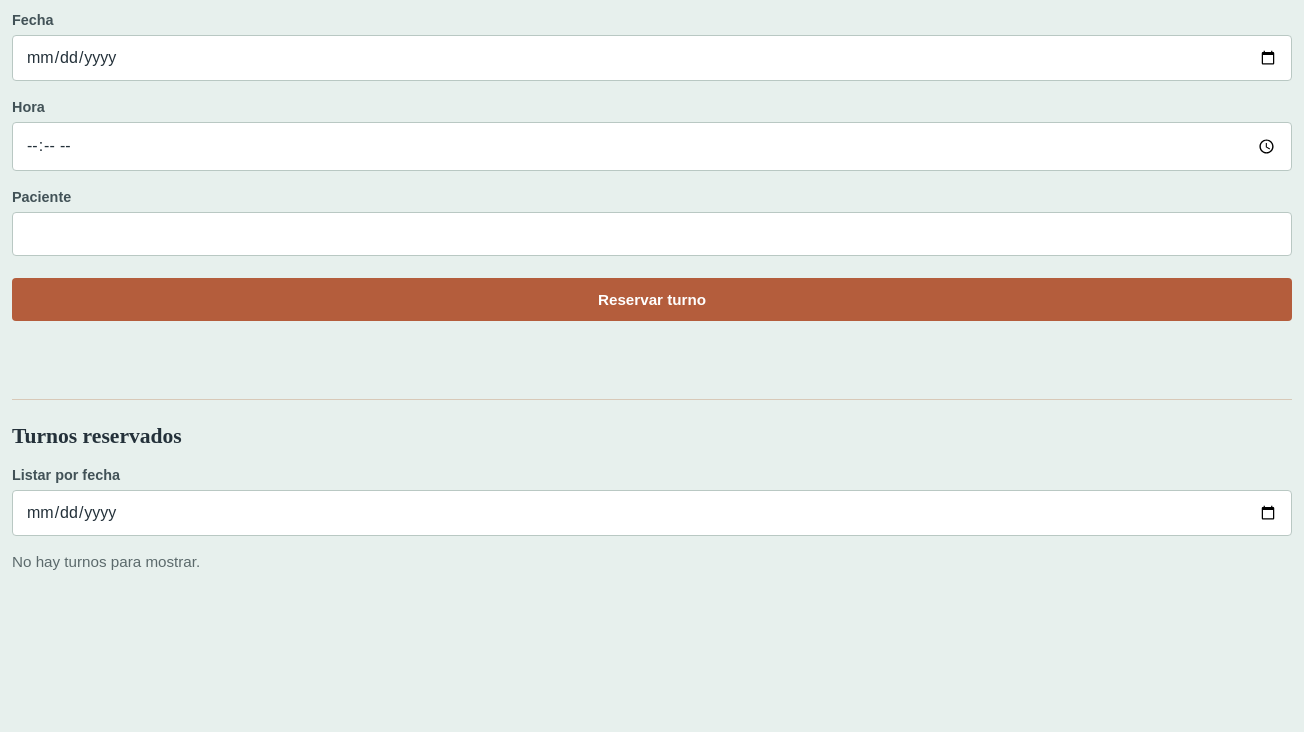
FormularioTurno › reserva un turno correctamente
The width and height of the screenshot is (1304, 732).
Type "2026-09-01" into the date field labelled "Fecha" at (652, 58), box left=12, top=35, right=1292, bottom=81
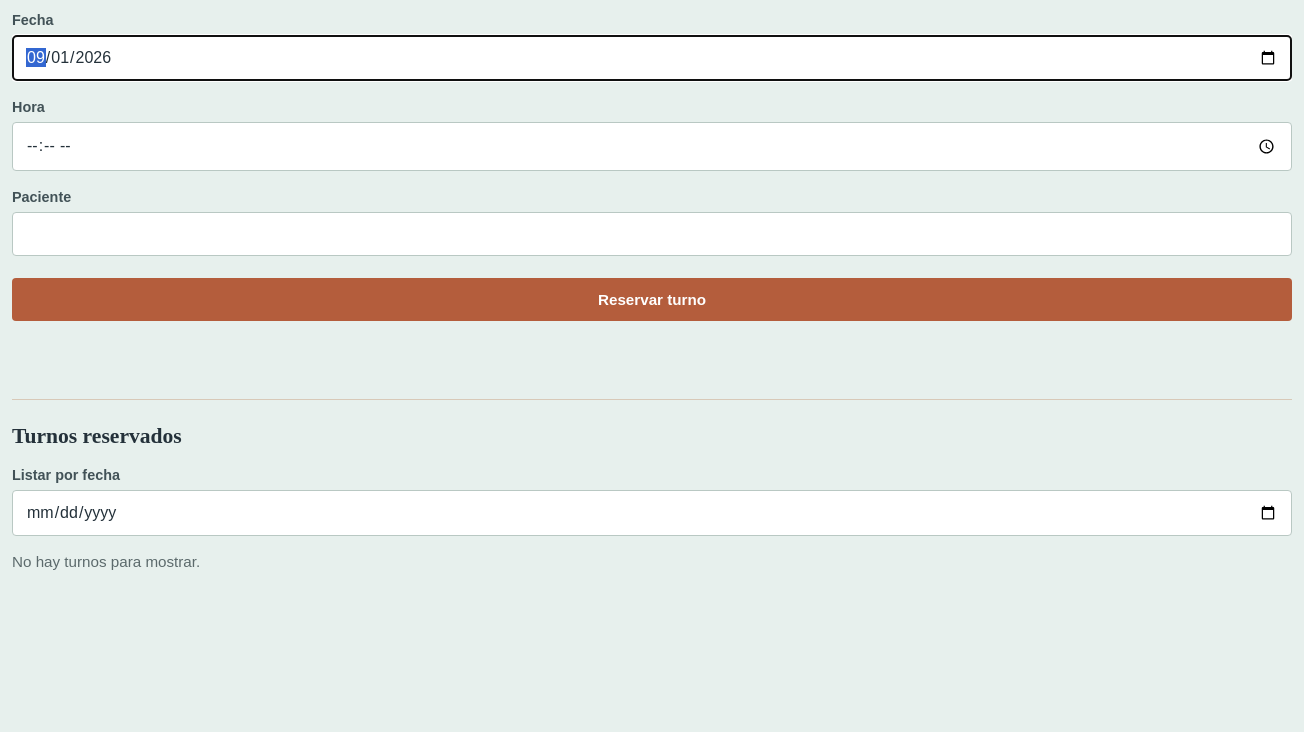
Type "10:30" into the time field labelled "Hora" at (652, 146), box left=12, top=122, right=1292, bottom=171
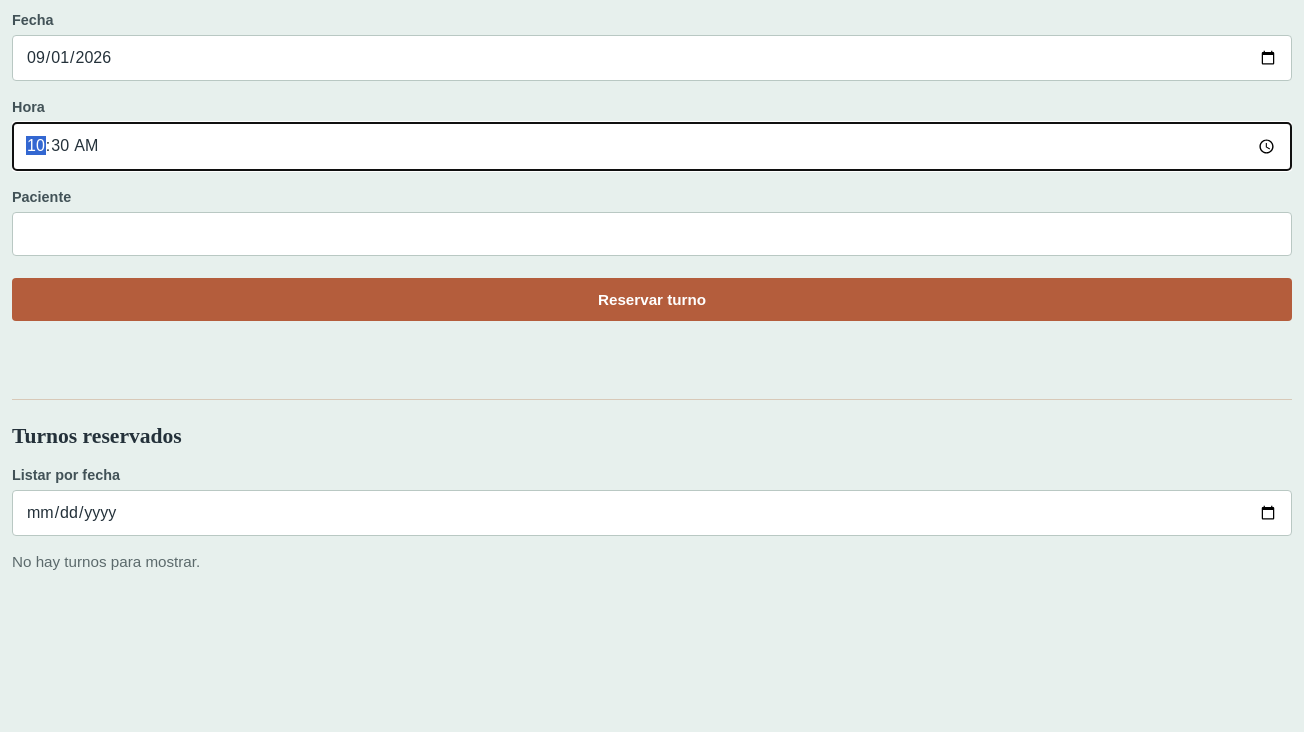
Type "Ana" into the field labelled "Paciente" at (652, 234), box left=12, top=212, right=1292, bottom=256
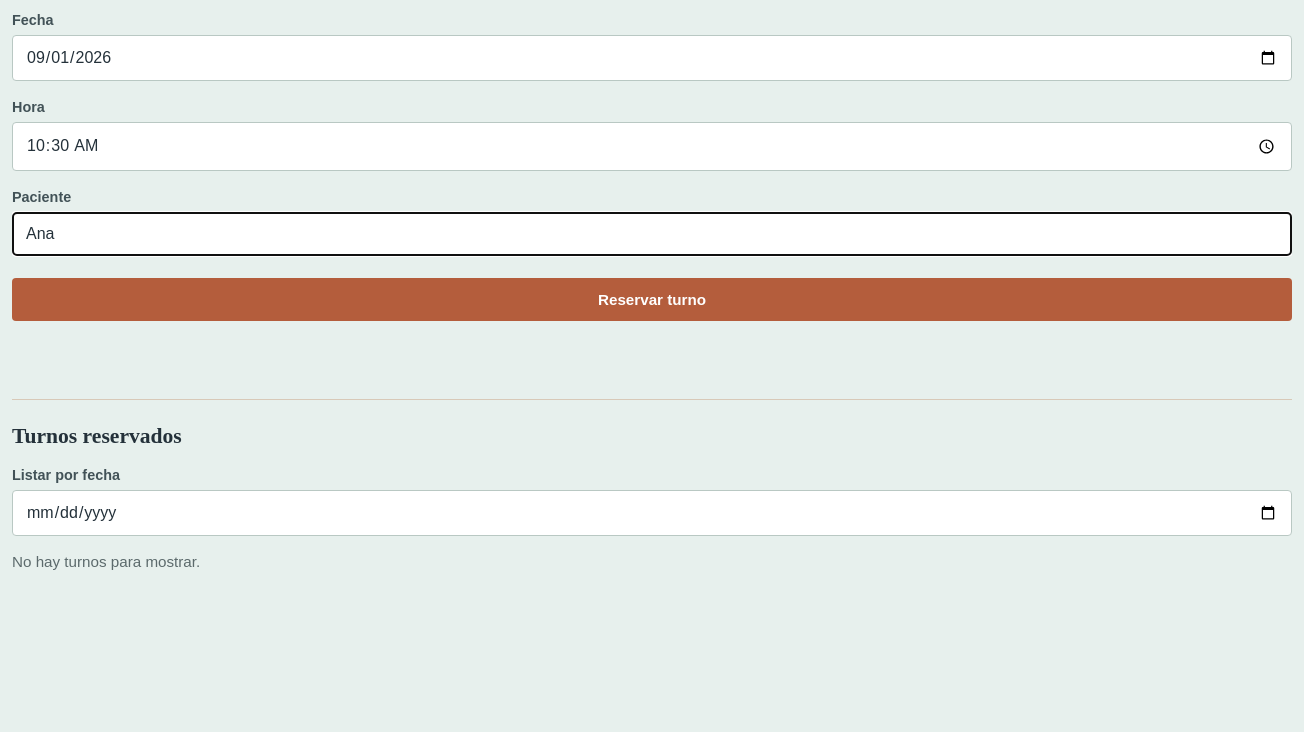
Click the button "Reservar turno" at (652, 299), box left=12, top=278, right=1292, bottom=321
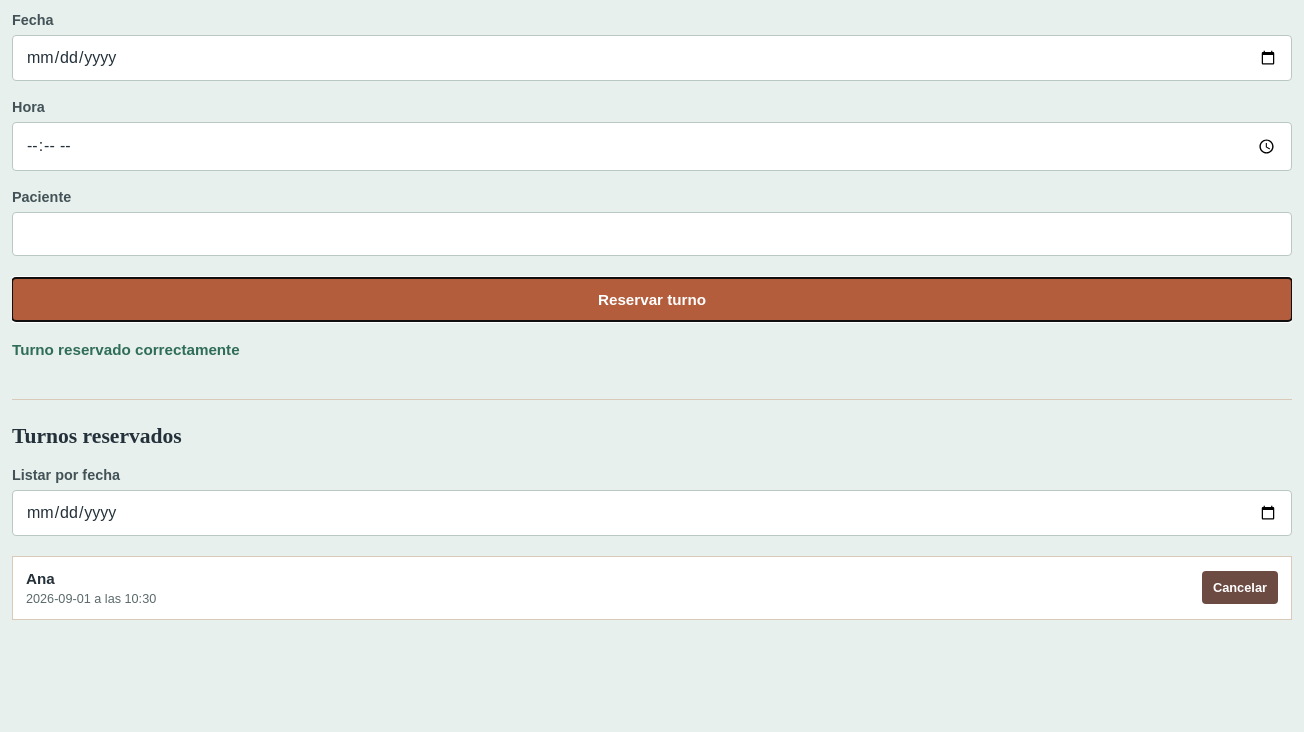
Expected: the text "Turno reservado correctamente" is shown, left=12, top=341, right=240, bottom=358
